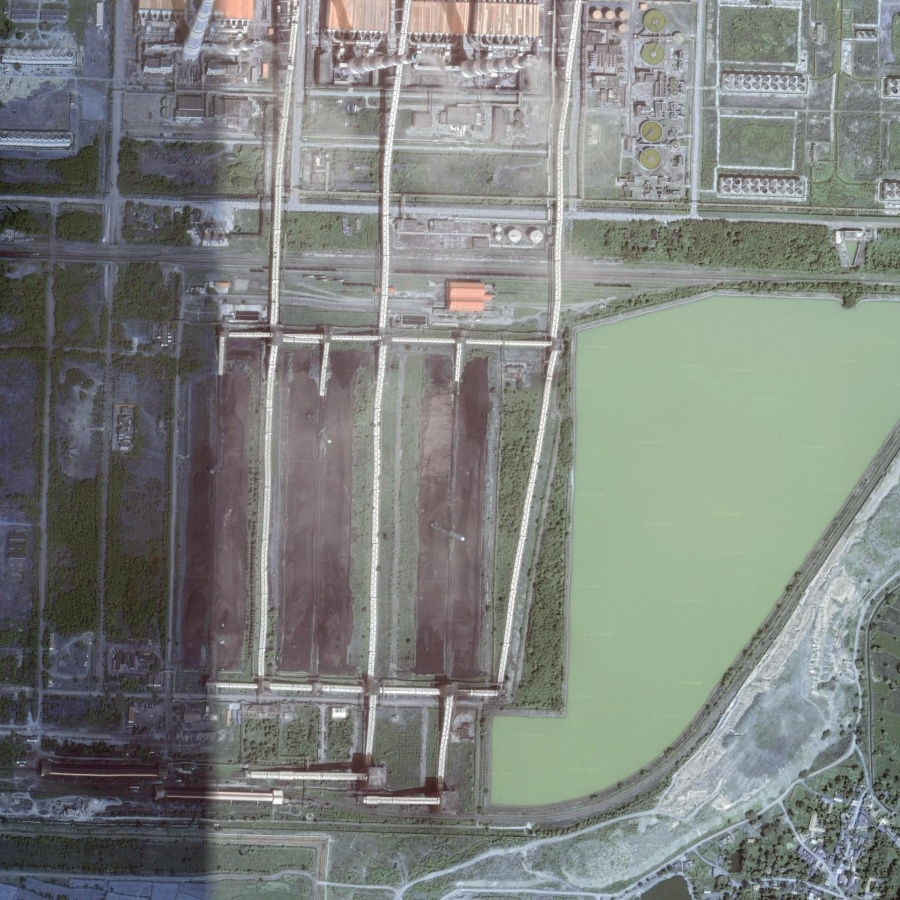PowerPlant: (172, 314, 531, 709)
